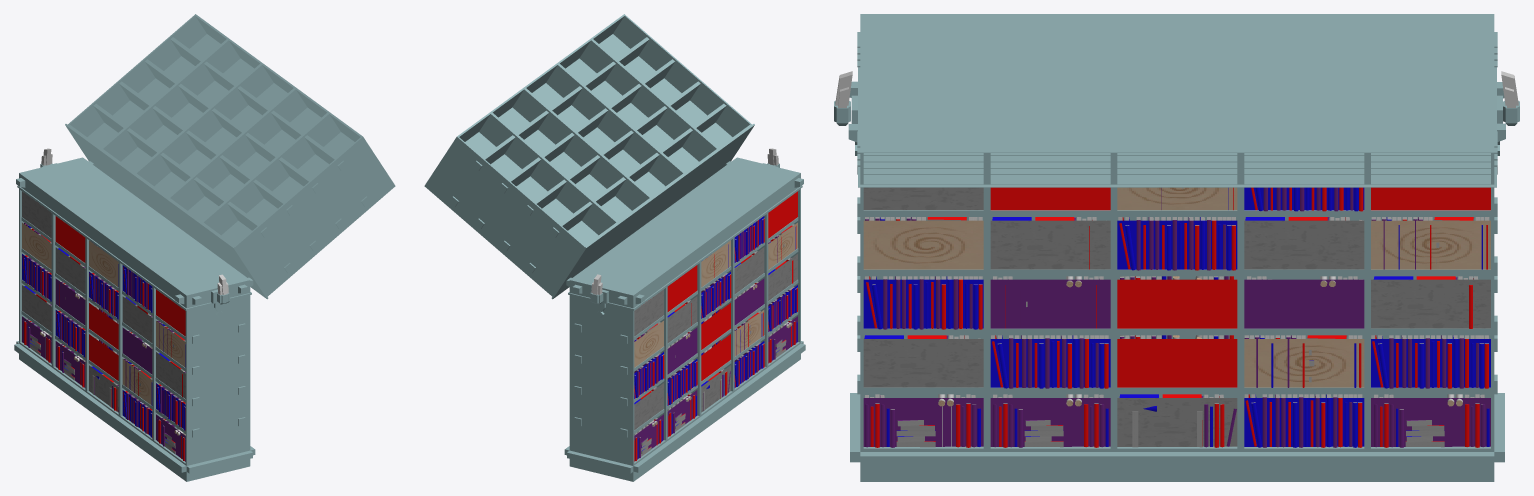
File: BookCase_Fallen.FBX
The picture shows the model from 3 angles, left to right: view 1: azimuth 30°, elevation 25°; view 2: azimuth 150°, elevation 25°; view 3: azimuth 270°, elevation 25°; orthographic projection. The views are drawn at different scales.
Parts seen in each view (by area): view 1: BookCase_LOD005, BookCase_LOD009, BookCase_LOD006, BookCase_LOD007, BookCase_LOD008; view 2: BookCase_LOD005, BookCase_LOD009, BookCase_LOD008, BookCase_LOD007, BookCase_LOD006; view 3: BookCase_LOD005, BookCase_LOD009, BookCase_LOD008, BookCase_LOD006, BookCase_LOD007.
Part boxes in pixels (x1,y1,x2,y2): BookCase_LOD005: (14, 14, 395, 481); BookCase_LOD009: (19, 162, 185, 460); BookCase_LOD006: (19, 157, 250, 460); BookCase_LOD007: (24, 167, 249, 453); BookCase_LOD008: (19, 170, 249, 481); BookCase_LOD005: (424, 14, 805, 481); BookCase_LOD009: (571, 175, 797, 460); BookCase_LOD008: (570, 191, 800, 481); BookCase_LOD007: (570, 157, 800, 460); BookCase_LOD006: (569, 173, 800, 456); BookCase_LOD005: (834, 14, 1519, 481); BookCase_LOD009: (863, 187, 1490, 446); BookCase_LOD008: (860, 466, 1493, 481); BookCase_LOD006: (875, 71, 1514, 447); BookCase_LOD007: (895, 217, 1473, 447).
Bounding box in the file's own units: 255 × 343 × 373.
